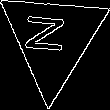N_E: (29, 17, 77, 62)
